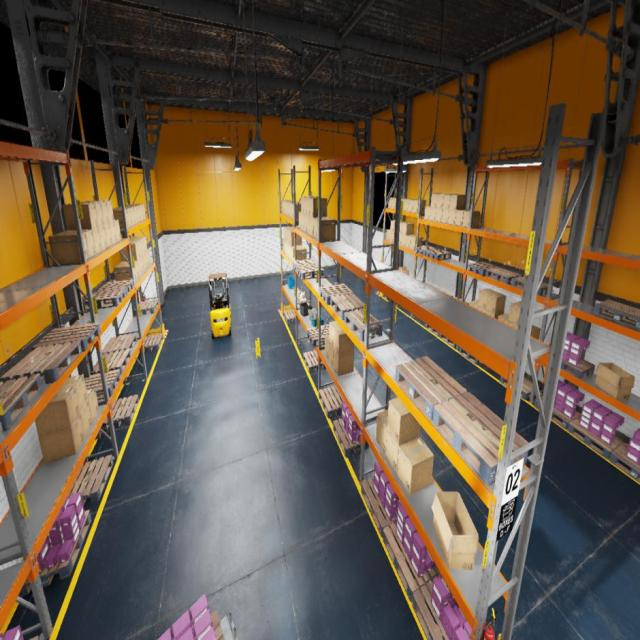box: (432, 491, 478, 570), (38, 413, 85, 463), (34, 386, 80, 435), (397, 436, 434, 495), (387, 397, 420, 445), (386, 429, 419, 473), (595, 363, 635, 399), (48, 232, 88, 264), (59, 374, 88, 412), (59, 229, 96, 258), (62, 204, 98, 230), (72, 202, 104, 226), (81, 201, 109, 225), (87, 200, 114, 223), (334, 327, 354, 355), (376, 410, 388, 455), (334, 349, 354, 376), (86, 388, 99, 424), (80, 400, 92, 438), (486, 292, 506, 314), (118, 260, 139, 280), (317, 219, 336, 241), (113, 264, 136, 282), (112, 208, 132, 228), (114, 207, 136, 225), (478, 289, 497, 309), (313, 216, 330, 238), (120, 242, 139, 261), (112, 208, 129, 229), (119, 206, 138, 224), (128, 203, 146, 220), (130, 235, 148, 252), (310, 198, 327, 216), (462, 210, 480, 227), (127, 204, 144, 221), (329, 321, 340, 347), (508, 302, 521, 324), (129, 238, 145, 255), (449, 194, 466, 210), (301, 196, 316, 213), (92, 227, 101, 254), (455, 210, 470, 226), (127, 205, 141, 222), (130, 240, 142, 257), (304, 197, 316, 214), (99, 225, 107, 250), (289, 231, 302, 246), (104, 223, 112, 247), (292, 245, 304, 261), (307, 197, 317, 216), (412, 200, 426, 213), (431, 193, 443, 208), (294, 247, 307, 260), (410, 237, 423, 250), (443, 194, 454, 209), (402, 222, 414, 235), (114, 219, 121, 241), (285, 201, 296, 215), (485, 310, 504, 318), (328, 342, 334, 367), (291, 203, 301, 218), (290, 202, 300, 217), (288, 201, 298, 216), (530, 325, 540, 340), (284, 227, 294, 241), (436, 194, 446, 208), (110, 222, 116, 244), (406, 235, 416, 248), (408, 199, 418, 212), (282, 200, 291, 214), (293, 204, 301, 219), (286, 227, 294, 242), (435, 208, 443, 223), (400, 221, 409, 234), (403, 198, 412, 211), (284, 200, 292, 214), (442, 208, 449, 224), (448, 209, 455, 225), (498, 314, 509, 324), (396, 198, 406, 209), (325, 334, 329, 359), (394, 222, 404, 232), (288, 229, 294, 244), (424, 206, 430, 220), (388, 198, 396, 208), (430, 208, 436, 221), (306, 215, 310, 234), (140, 255, 144, 273), (145, 250, 149, 268), (508, 321, 517, 329), (469, 300, 477, 309), (138, 259, 142, 276), (143, 253, 147, 270), (401, 199, 407, 210), (399, 267, 408, 274), (147, 249, 151, 264), (310, 217, 313, 236), (478, 306, 486, 313), (390, 220, 395, 231), (304, 215, 307, 232), (301, 213, 304, 230), (402, 235, 406, 246), (398, 233, 402, 244), (390, 231, 394, 242), (392, 198, 396, 209), (386, 230, 390, 240), (298, 292, 304, 298), (294, 289, 300, 295), (299, 212, 301, 229), (298, 296, 303, 302), (290, 245, 292, 260), (286, 241, 288, 255), (300, 298, 306, 302), (283, 238, 285, 250), (298, 292, 303, 296), (288, 243, 289, 257), (285, 240, 286, 253), (394, 232, 394, 242)
forklift: (208, 272, 231, 339)
pallets: (432, 392, 528, 486), (18, 510, 92, 597), (382, 521, 440, 602), (395, 356, 467, 420), (0, 341, 82, 384), (568, 416, 624, 460), (0, 373, 42, 431), (412, 573, 448, 639), (67, 455, 113, 506), (361, 476, 396, 537), (32, 323, 101, 351), (534, 396, 581, 430), (333, 418, 369, 458), (101, 394, 139, 431), (594, 300, 639, 330), (609, 442, 640, 483), (343, 309, 382, 341), (84, 369, 120, 400), (90, 348, 132, 374), (500, 376, 540, 400), (84, 288, 126, 310), (331, 294, 364, 320), (318, 385, 344, 418), (511, 276, 548, 296), (560, 358, 595, 379), (101, 334, 137, 354), (320, 284, 354, 304), (486, 267, 522, 284), (96, 280, 134, 295), (306, 324, 329, 347), (303, 351, 326, 373), (459, 346, 484, 365), (467, 262, 499, 276), (134, 299, 159, 316), (210, 611, 225, 639), (140, 334, 162, 353), (298, 264, 324, 279), (292, 259, 317, 273), (426, 250, 452, 260), (440, 333, 457, 348), (415, 246, 439, 255), (284, 310, 299, 323), (426, 324, 439, 337), (437, 289, 453, 297), (454, 297, 469, 304), (424, 282, 436, 289), (383, 294, 391, 302), (29, 636, 39, 640), (391, 266, 399, 270)
